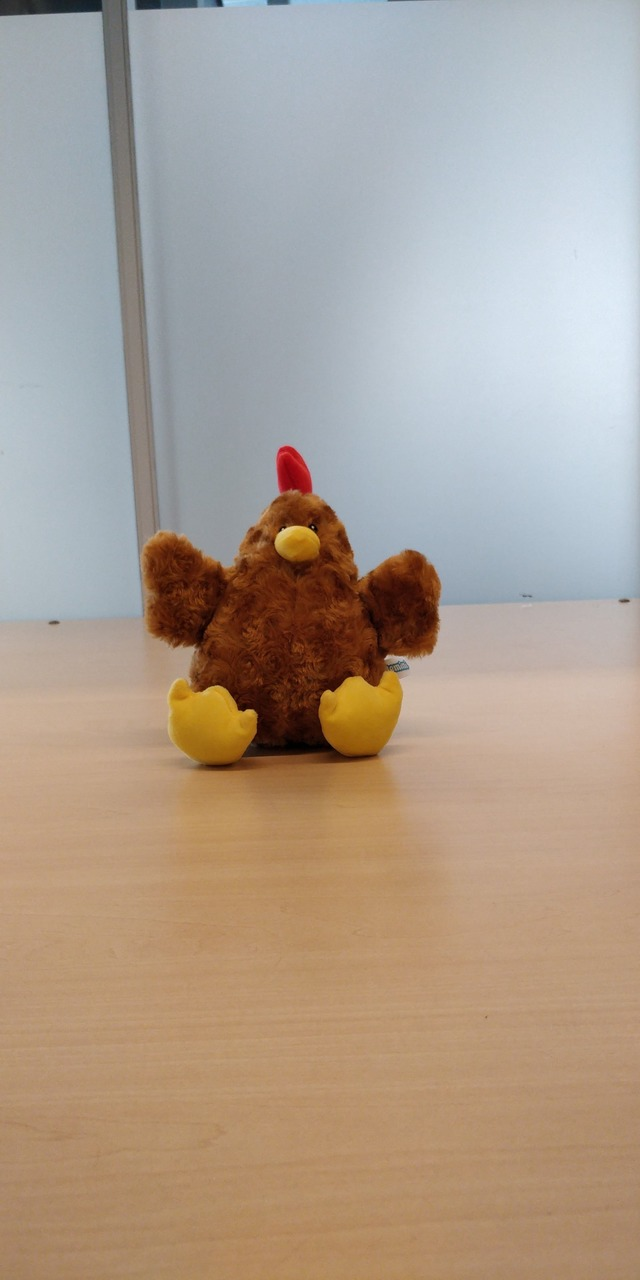fakeChicken: (139, 446, 444, 768)
